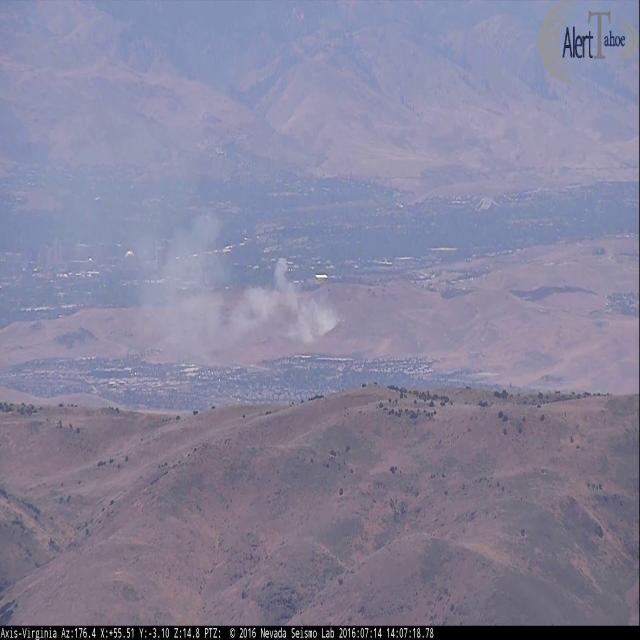smoke: (99, 151, 339, 362)
